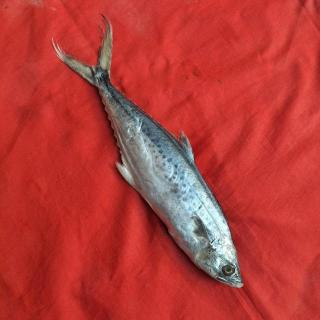Ikan: (50, 20, 254, 295)
